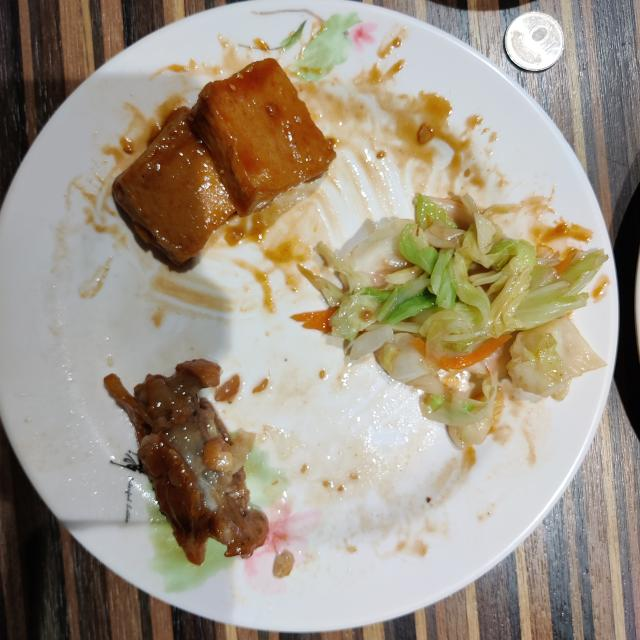Kabayaki sea bream fillet: (104, 359, 269, 565)
cabbage: (300, 195, 608, 449)
coin: (505, 12, 564, 71)
creamy tofu: (112, 59, 335, 266)
